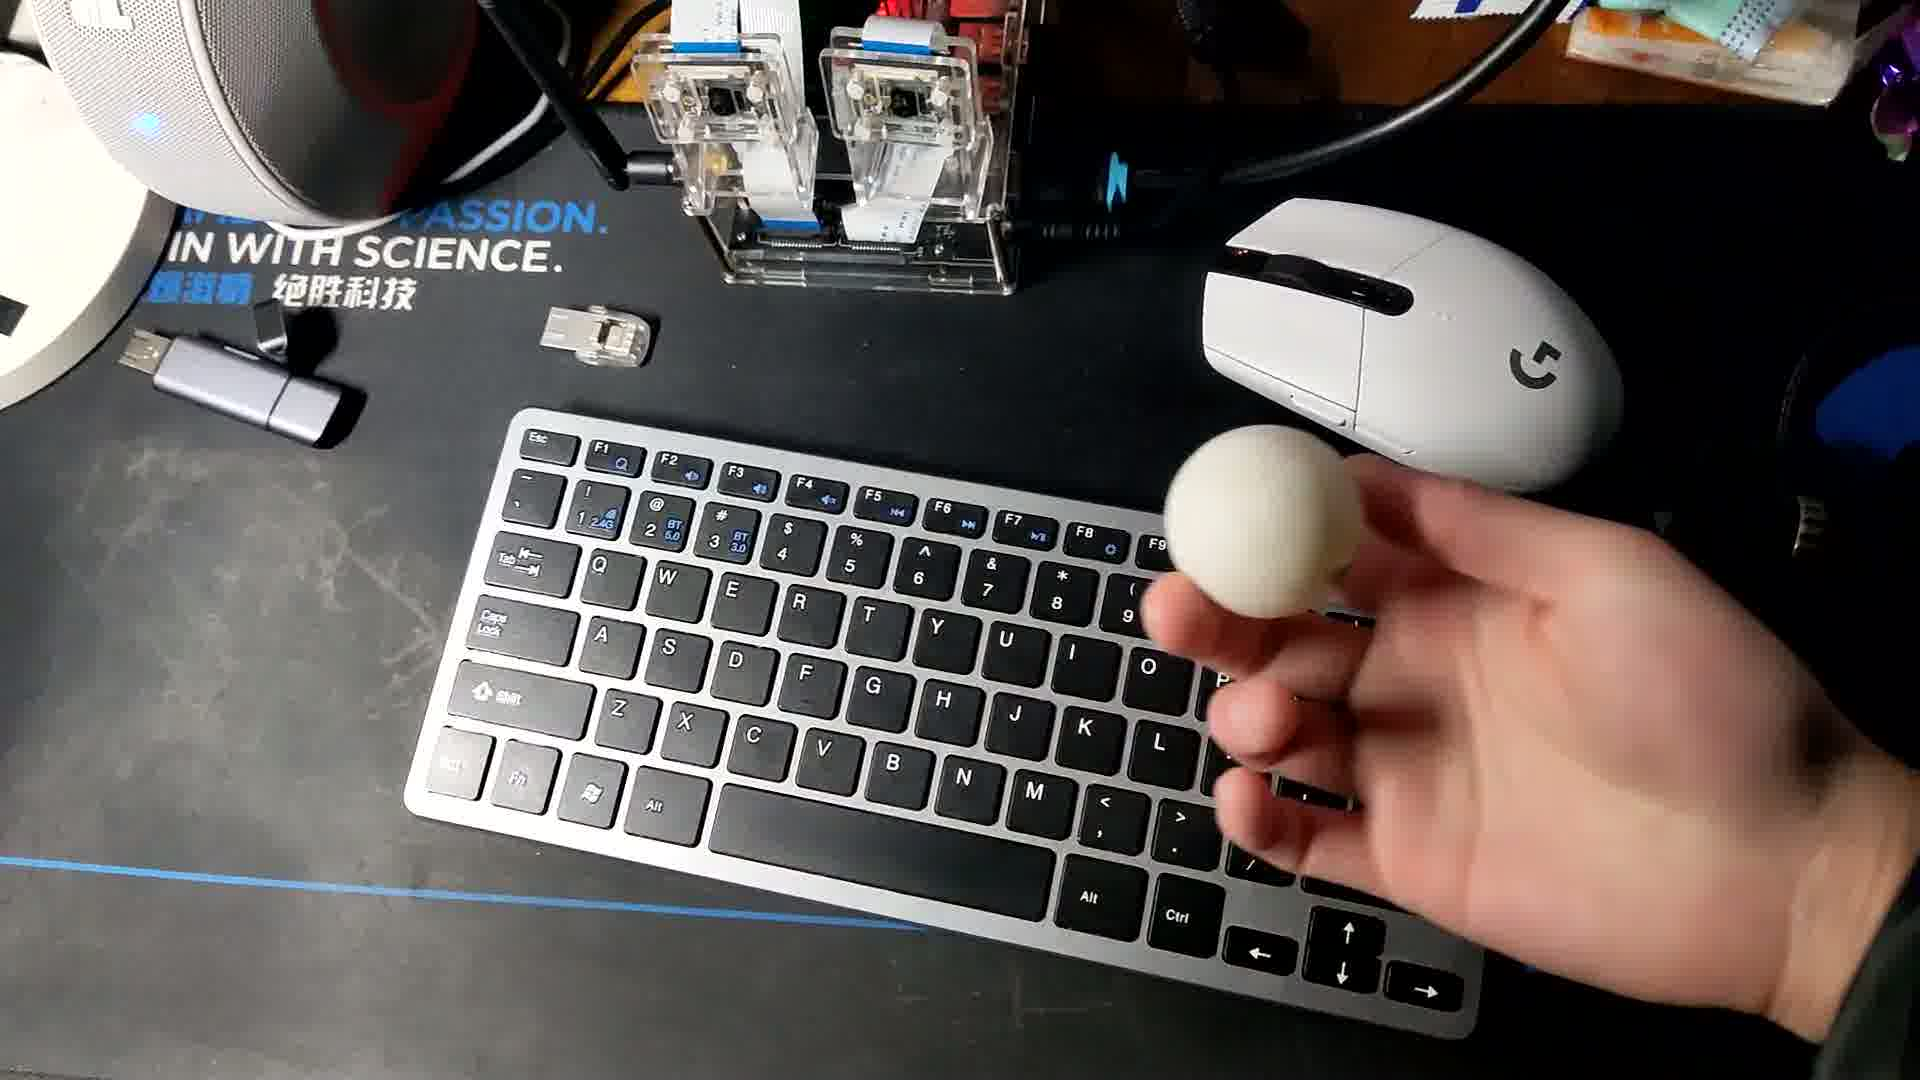Ball: (1167, 426, 1370, 626)
